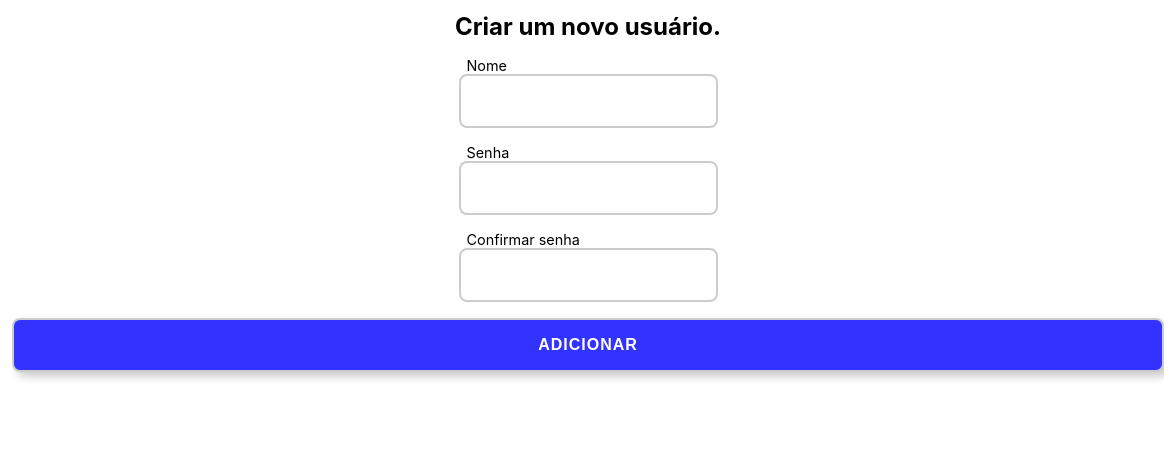
Test: Should not create a duplicated user
This screenshot has width=1176, height=468.
Type "test" into the field labelled "Nome".
click(588, 101); type("test")  # box x1=458 y1=74 x2=718 y2=128
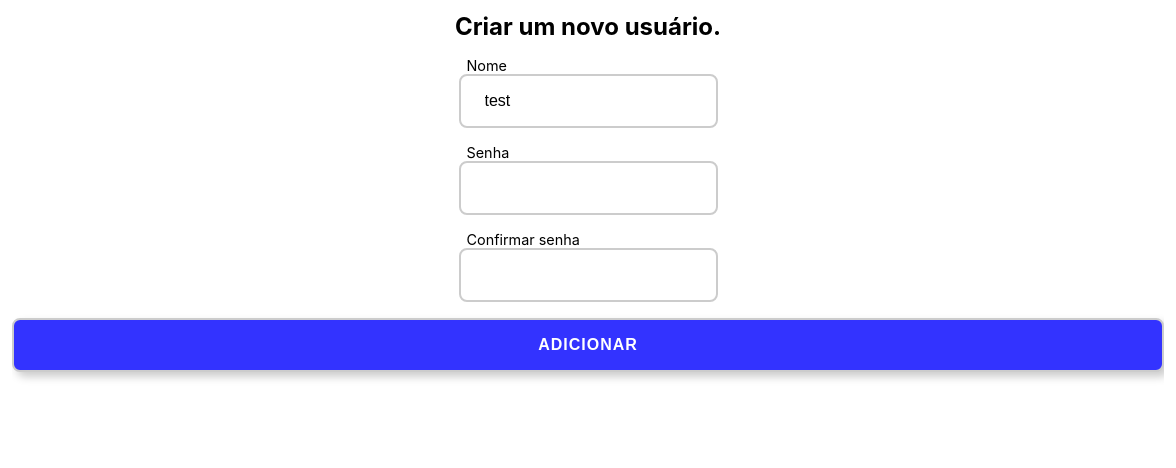
Type "123456" into the password field labelled "Senha".
click(588, 188); type("123456")  # box x1=458 y1=161 x2=718 y2=215
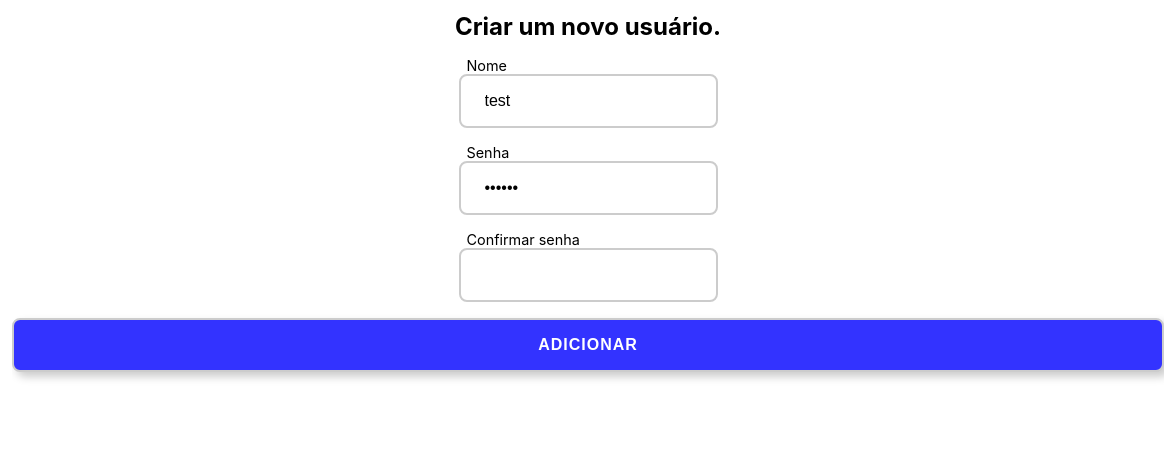
Type "123456" into the password field labelled "Confirmar senha".
click(588, 275); type("123456")  # box x1=458 y1=248 x2=718 y2=302
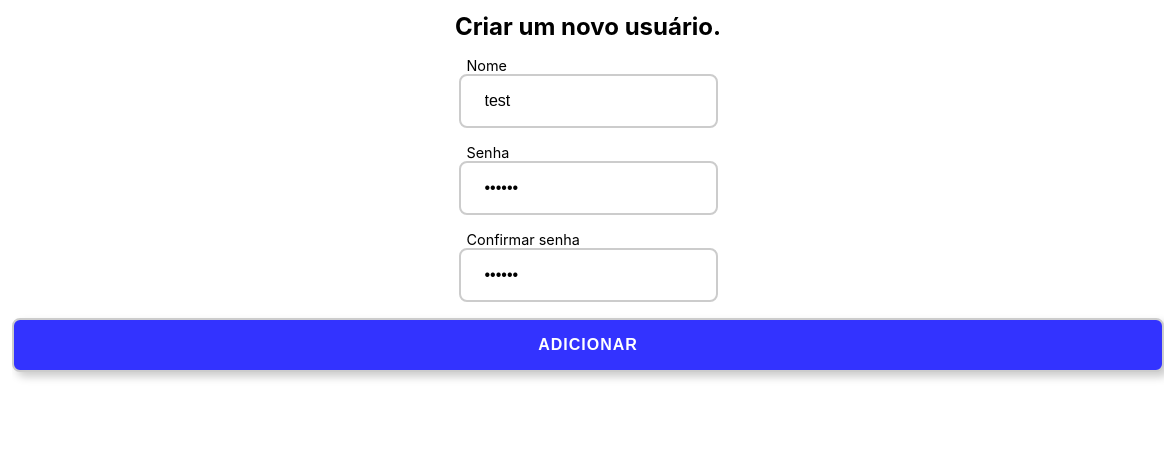
Click the button "Adicionar".
click(588, 345)  # box x1=12 y1=318 x2=1164 y2=372
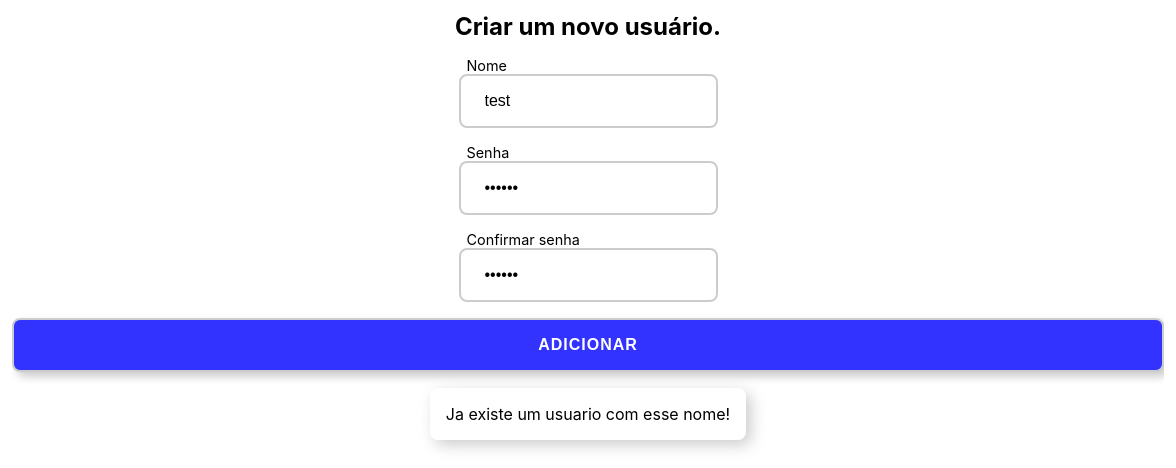
Check: the text "Ja existe um usuario com esse nome!" is shown, box x1=430 y1=388 x2=746 y2=440
